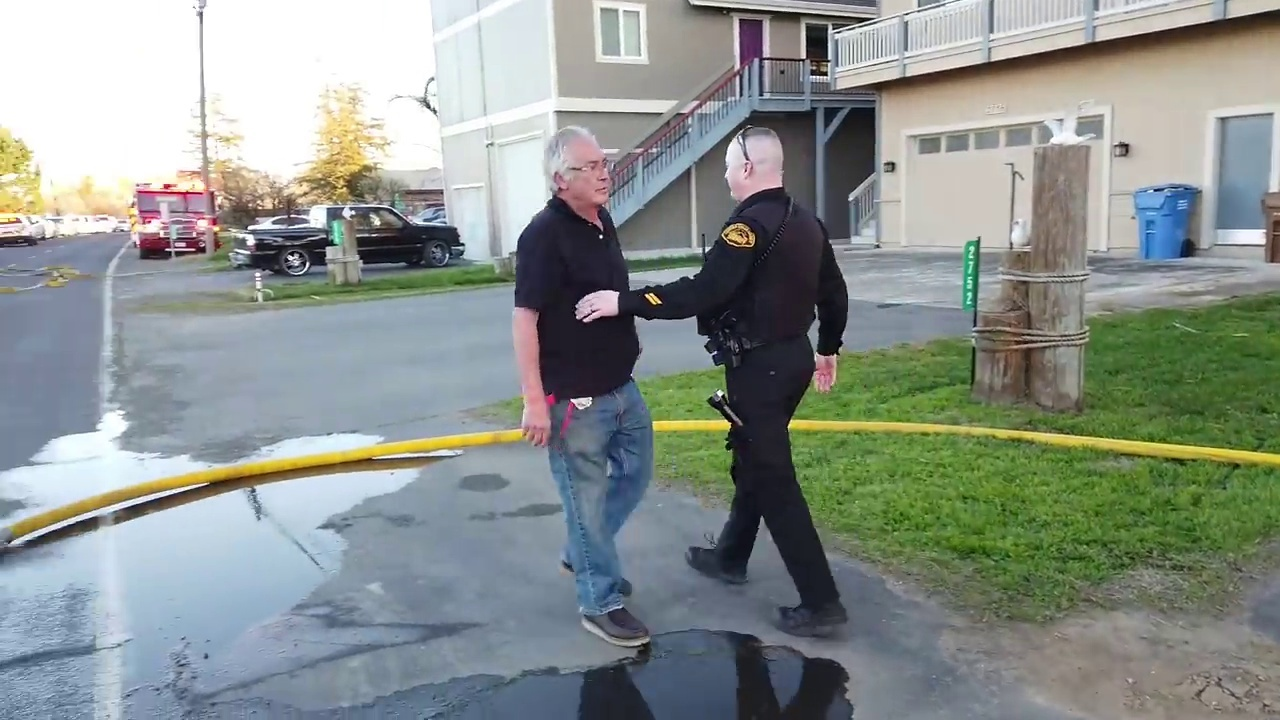fire: (37, 159, 135, 218), (644, 290, 662, 305)
